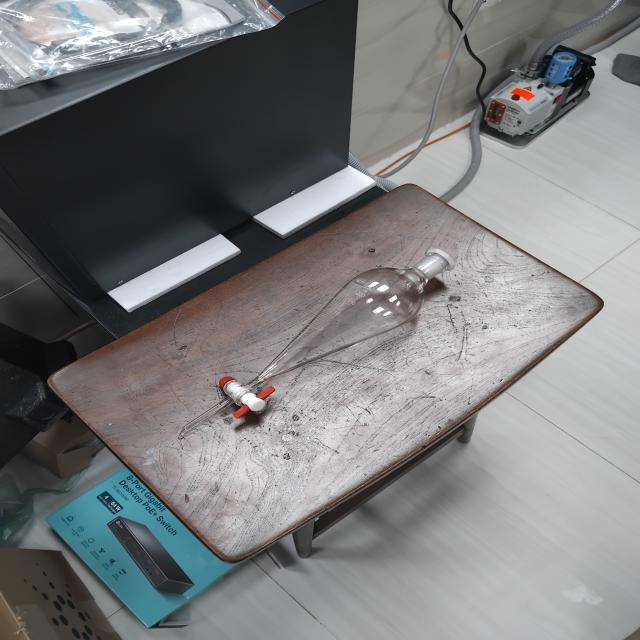Separating_Funnel: (175, 233, 486, 449)
